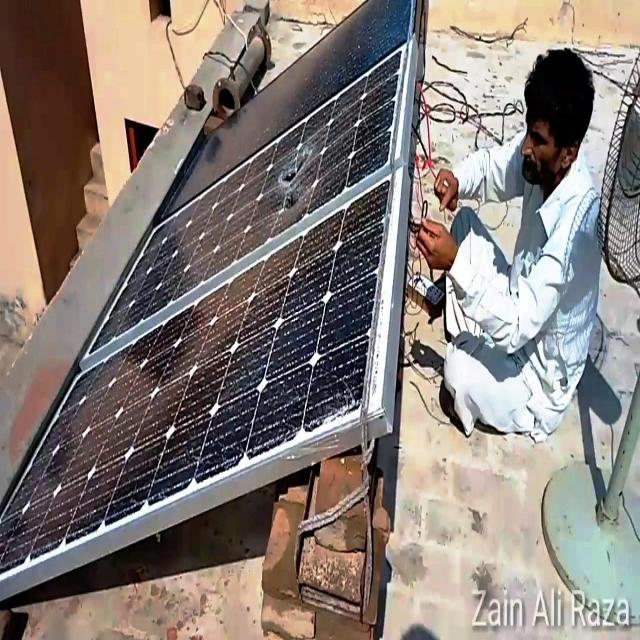faulty: (5, 197, 398, 587), (82, 43, 410, 353)
